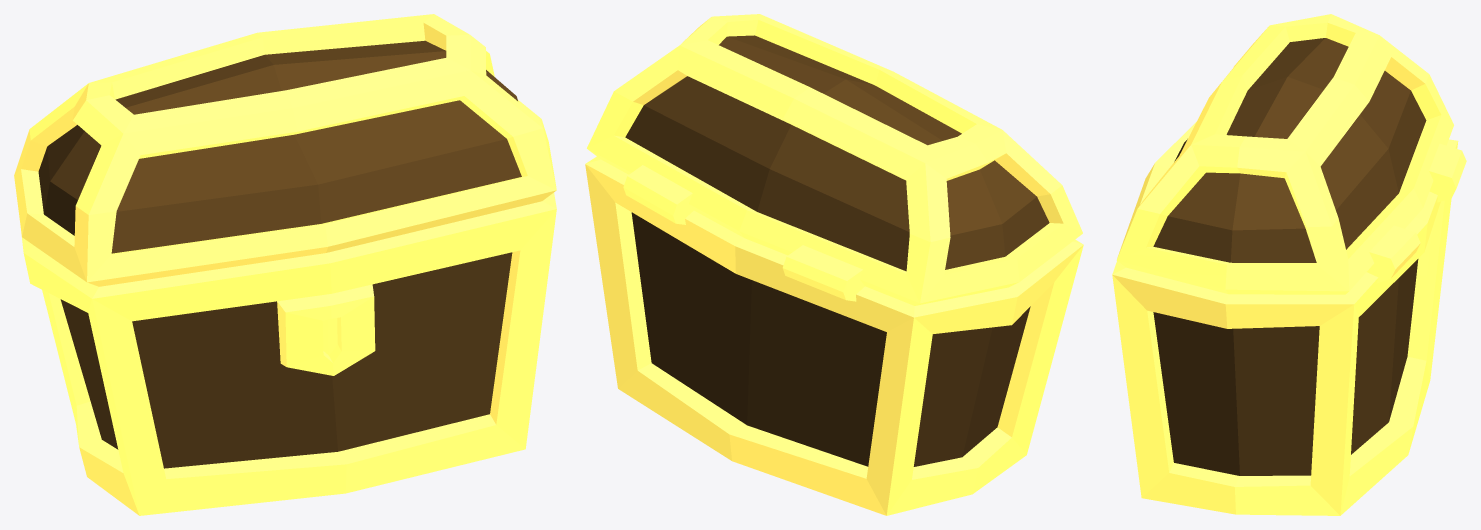
The model's file is tesouro.gltf.
3 views of the same model, side by side, from view 1: azimuth 30°, elevation 25°; view 2: azimuth 150°, elevation 25°; view 3: azimuth 270°, elevation 25° (orthographic). The views are drawn at different scales.
Parts seen in each view (by area): view 1: Cube.023_503; view 2: Cube.023_503; view 3: Cube.023_503.
Part boxes in pixels (x1,y1,x2,y2): Cube.023_503: [14, 14, 556, 515]; Cube.023_503: [585, 14, 1083, 515]; Cube.023_503: [1112, 14, 1466, 515].
Bounding box in the file's own units: 1.91 × 1.56 × 1.35.
